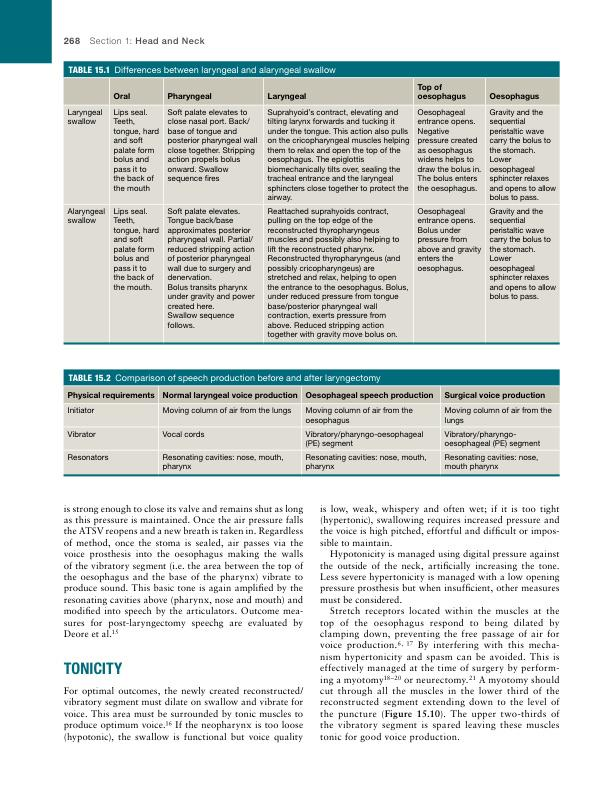caption: (67, 373, 382, 384), (67, 65, 337, 76)
header: (89, 36, 206, 45)
section-heading: (63, 661, 124, 675)
table: (63, 77, 560, 343), (63, 385, 560, 475)
text: (318, 502, 561, 744), (62, 503, 305, 639), (62, 684, 305, 745)
